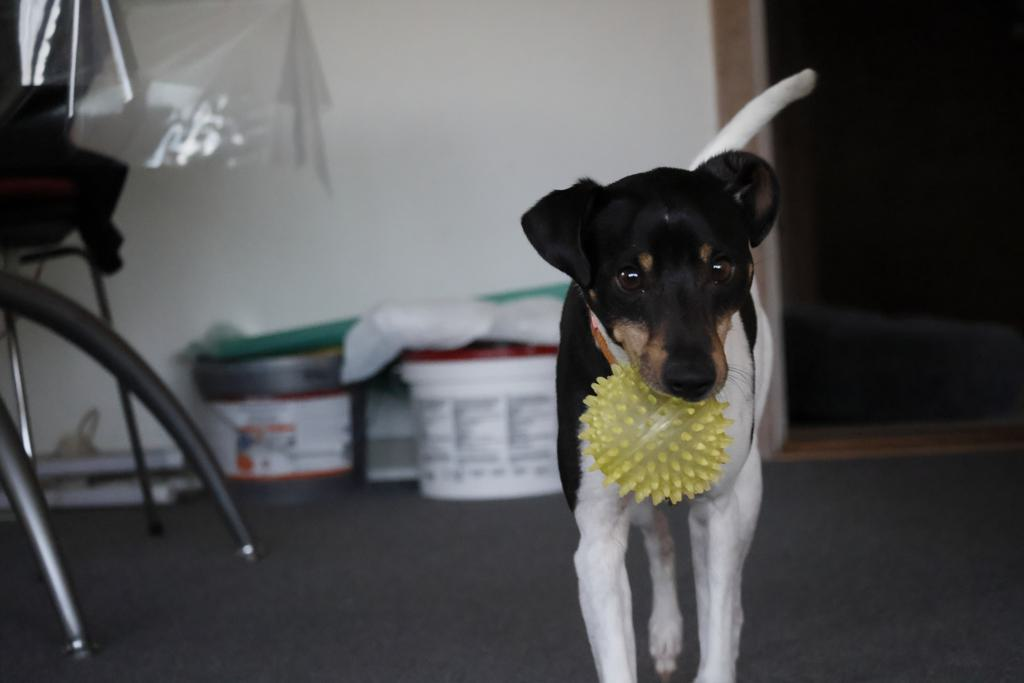Dog: (506, 63, 829, 683)
